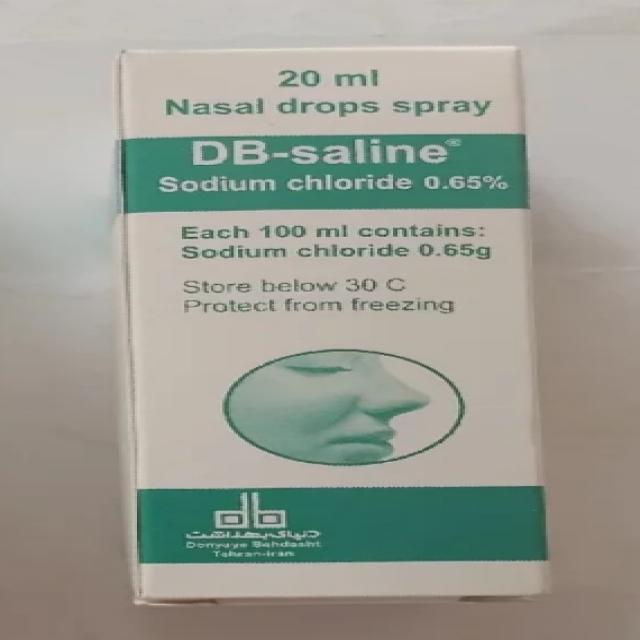drug-name: (191, 136, 448, 166)
